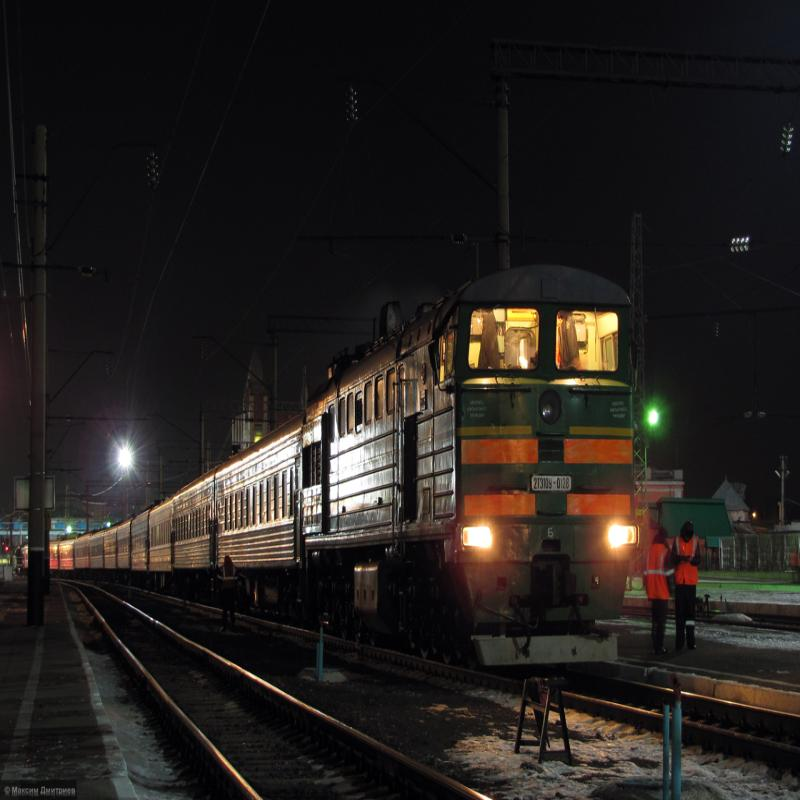train: (301, 254, 654, 711), (207, 398, 309, 621), (147, 461, 220, 600)
